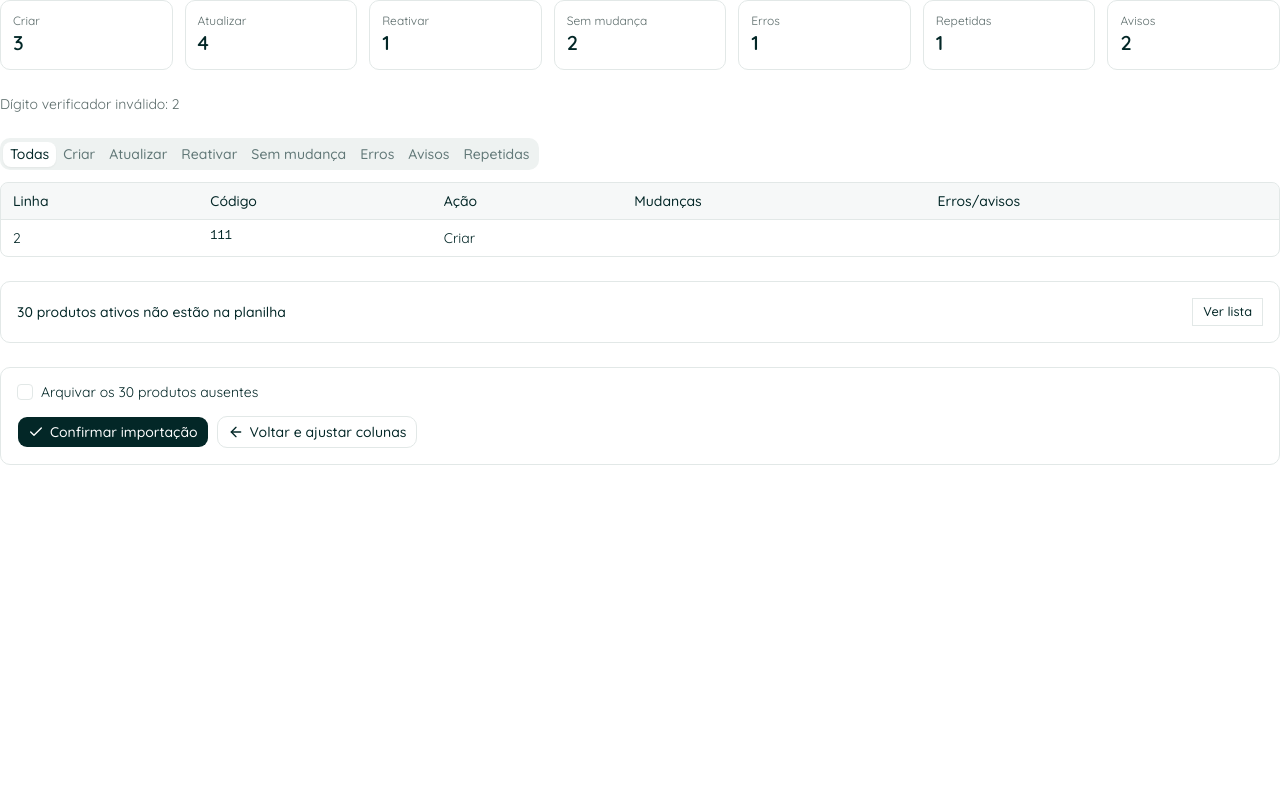
Test: SimulationStep › com a confirmação forte aberta, não dá para desmarcar "Arquivar"
This screenshot has width=1280, height=800.
Click the checkbox named "Arquivar os 30 produtos ausentes". click: (25, 392)
box: [17, 384, 33, 400]
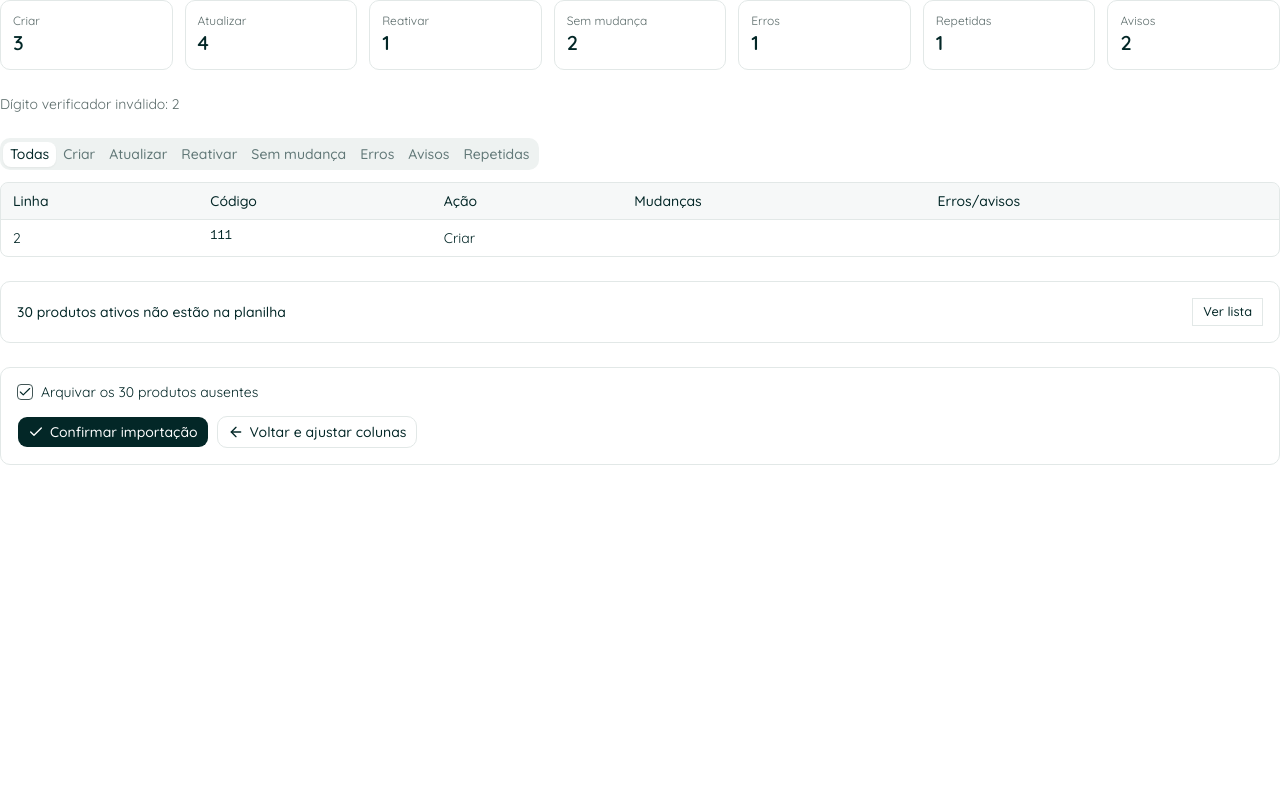
Click the button "Confirmar importação". click: (113, 432)
box: [17, 416, 208, 448]
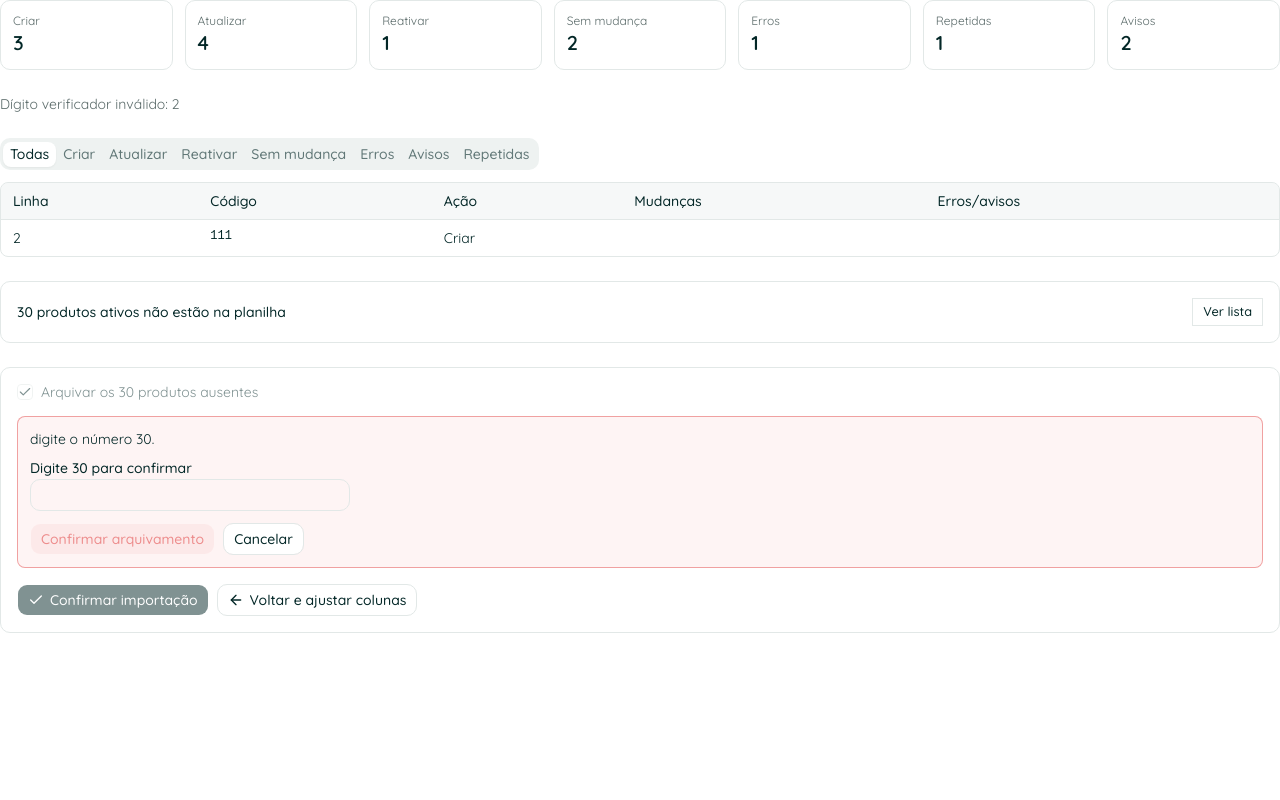
Check: the dialog is shown, box [17, 416, 1263, 568]
Check: the checkbox named "Arquivar os 30 produtos ausentes" is disabled, box [17, 384, 33, 400]
